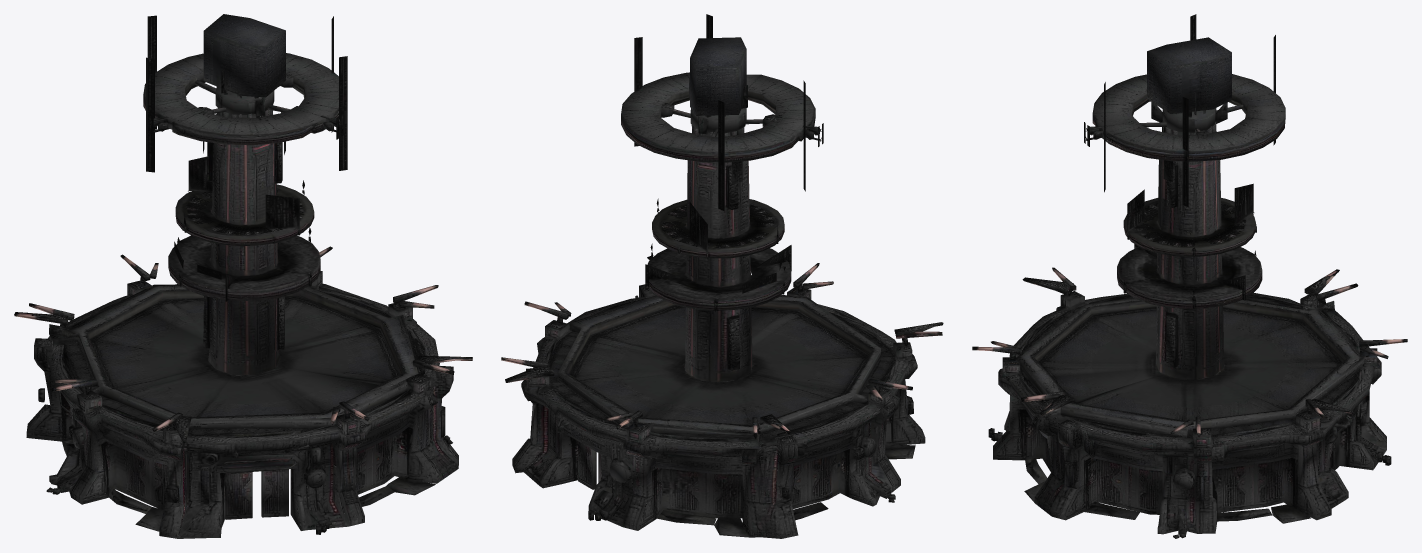
3 renders of one model, left to right at view 1: azimuth 30°, elevation 25°; view 2: azimuth 150°, elevation 25°; view 3: azimuth 270°, elevation 25°, orthographic. The views are drawn at different scales.
Visible parts, largest first — view 1: tripo_node_2fc304cf-eb9e-43eb-9396-64ee04f7f4aa; view 2: tripo_node_2fc304cf-eb9e-43eb-9396-64ee04f7f4aa; view 3: tripo_node_2fc304cf-eb9e-43eb-9396-64ee04f7f4aa.
Boxes of the visible parts, <box> form: tripo_node_2fc304cf-eb9e-43eb-9396-64ee04f7f4aa: <box>14,14,472,538</box>; tripo_node_2fc304cf-eb9e-43eb-9396-64ee04f7f4aa: <box>501,14,943,538</box>; tripo_node_2fc304cf-eb9e-43eb-9396-64ee04f7f4aa: <box>972,14,1407,538</box>.
Bounding box in the file's own units: 0.9824 × 0.998 × 0.9824.
1 material, 1 textured.
